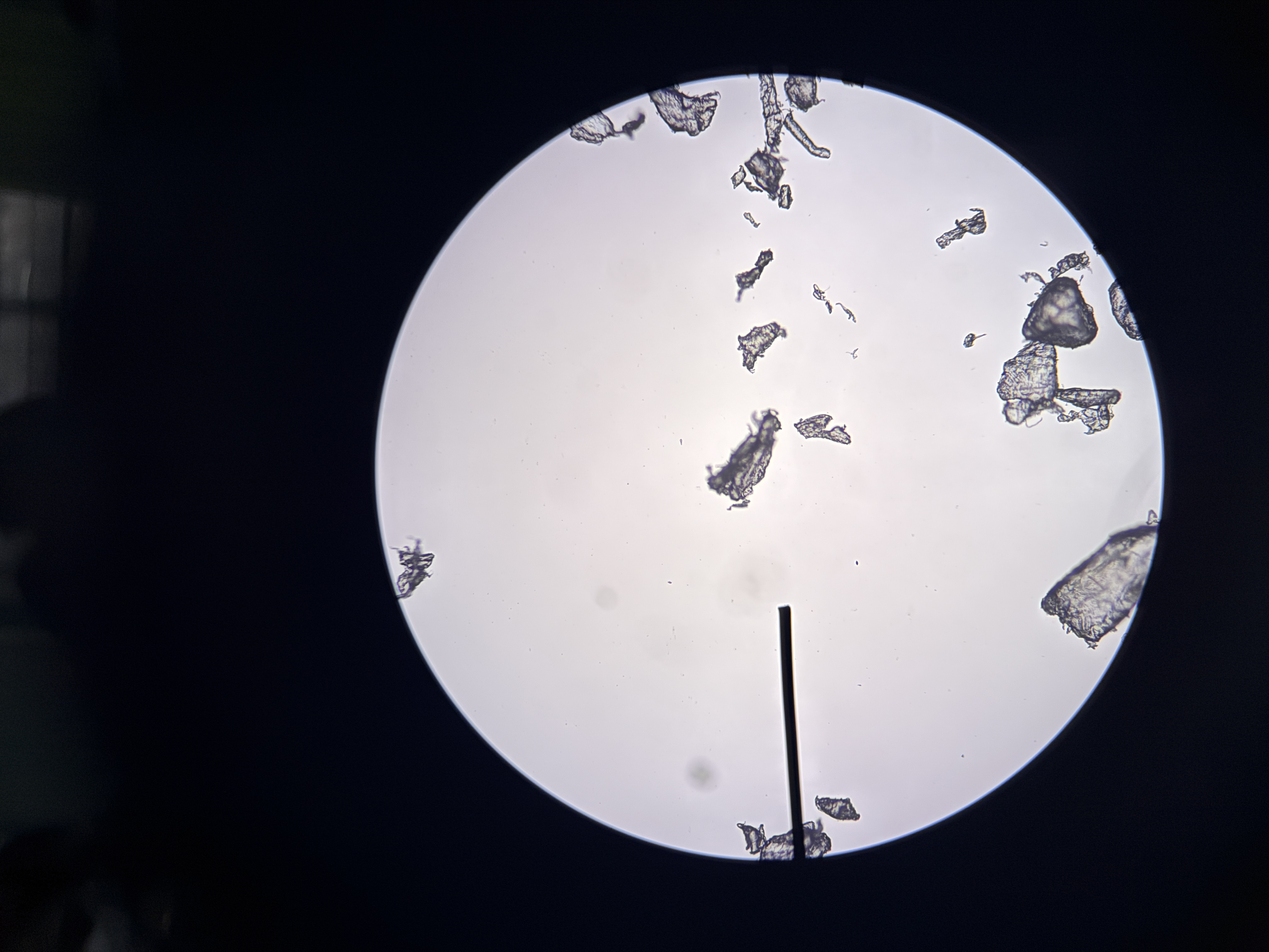microplastic: (1040, 525, 1159, 649), (707, 409, 783, 511), (996, 340, 1066, 428), (1022, 277, 1099, 350), (647, 83, 721, 137), (759, 819, 831, 863), (389, 540, 435, 600), (744, 141, 789, 201), (737, 321, 787, 374), (570, 110, 646, 144), (782, 108, 831, 159), (1108, 278, 1145, 341), (759, 68, 784, 154), (735, 248, 774, 301), (936, 208, 986, 249), (1057, 403, 1114, 435), (793, 414, 851, 445), (784, 73, 826, 112), (1054, 387, 1122, 409), (1048, 250, 1093, 279), (815, 796, 860, 821), (736, 821, 767, 855), (835, 303, 856, 323), (730, 165, 747, 189), (778, 184, 793, 210), (963, 333, 987, 348), (1019, 272, 1046, 285), (742, 180, 763, 192), (813, 284, 826, 301), (1146, 510, 1160, 525), (842, 80, 864, 88), (846, 348, 859, 360), (743, 212, 755, 224), (825, 299, 833, 314), (1093, 244, 1101, 257), (1040, 241, 1048, 247), (753, 223, 761, 228), (1079, 275, 1084, 283), (746, 74, 751, 79)
